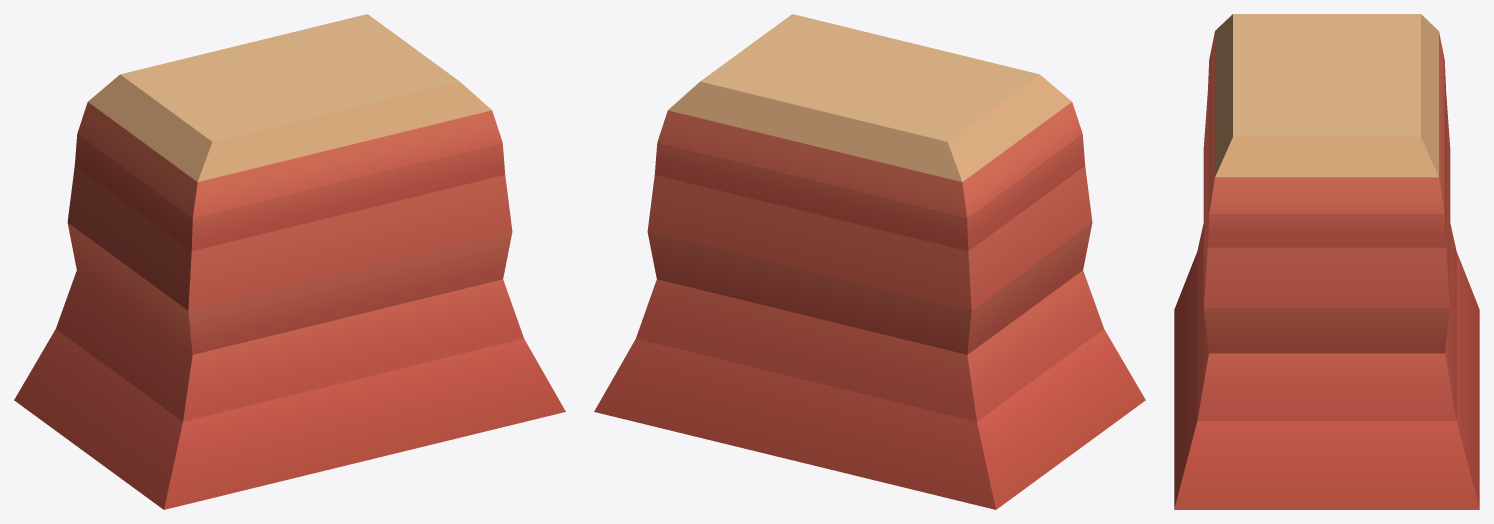
Rendered from StoneWall018.fbx.
3 views of the same model, side by side, from view 1: azimuth 30°, elevation 25°; view 2: azimuth 150°, elevation 25°; view 3: azimuth 270°, elevation 25° (orthographic).
Visible parts, largest first — view 1: StoneWall018; view 2: StoneWall018; view 3: StoneWall018.
Part boxes in pixels (<box>): StoneWall018: <box>14,14,565,509</box>; StoneWall018: <box>594,14,1145,509</box>; StoneWall018: <box>1174,14,1479,509</box>.
Size of the model in its own units: 537 by 418 by 347.
